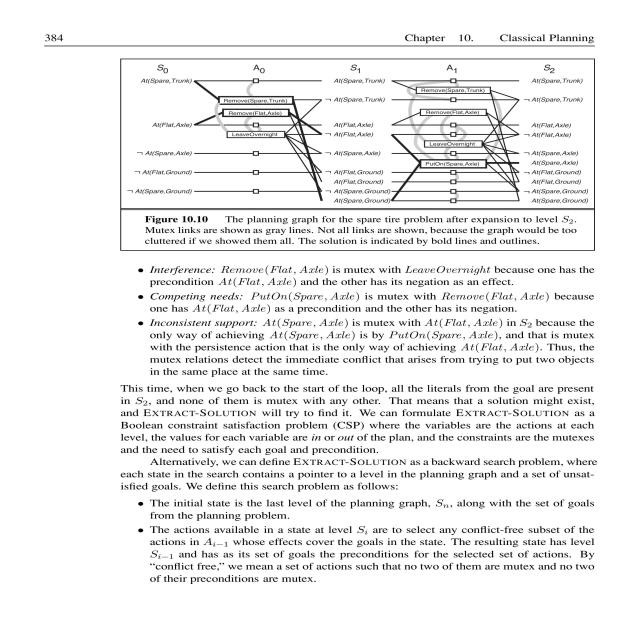diagram: (56, 50, 640, 265)
